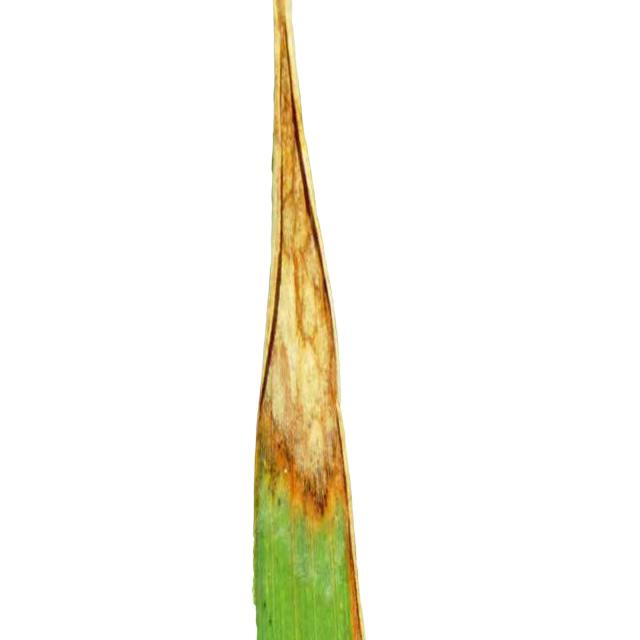Leaf scald: (200, 0, 458, 640)
